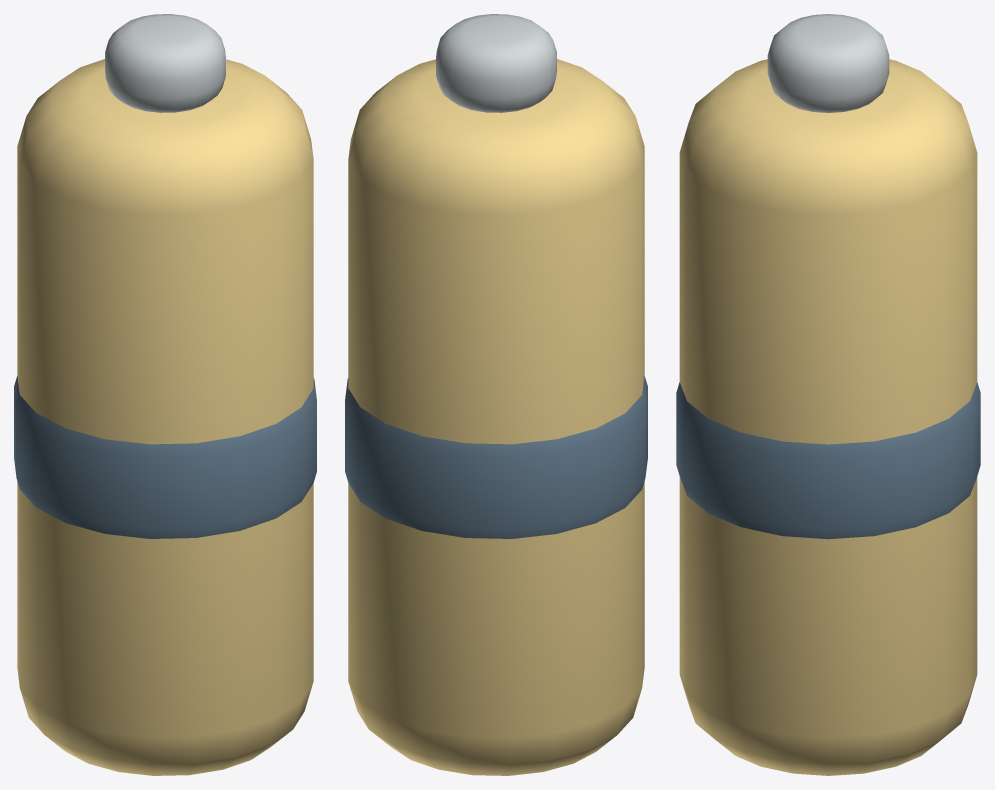
File: Battery.fbx
The picture shows the model from 3 angles, left to right: view 1: azimuth 30°, elevation 25°; view 2: azimuth 150°, elevation 25°; view 3: azimuth 270°, elevation 25°; orthographic projection.
Visible parts, largest first — view 1: Cell, Sleeve, Contact; view 2: Cell, Sleeve, Contact; view 3: Cell, Sleeve, Contact.
Part boxes in pixels (box(x1,y1,x2,y2)): Cell: box(17, 59, 313, 775); Sleeve: box(14, 376, 316, 538); Contact: box(105, 14, 225, 112); Cell: box(348, 59, 644, 775); Sleeve: box(345, 376, 647, 538); Contact: box(436, 14, 556, 112); Cell: box(679, 59, 977, 775); Sleeve: box(676, 382, 980, 539); Contact: box(767, 14, 889, 112).
Bounding box in the file's own units: 4.5 × 11.5 × 4.5.
